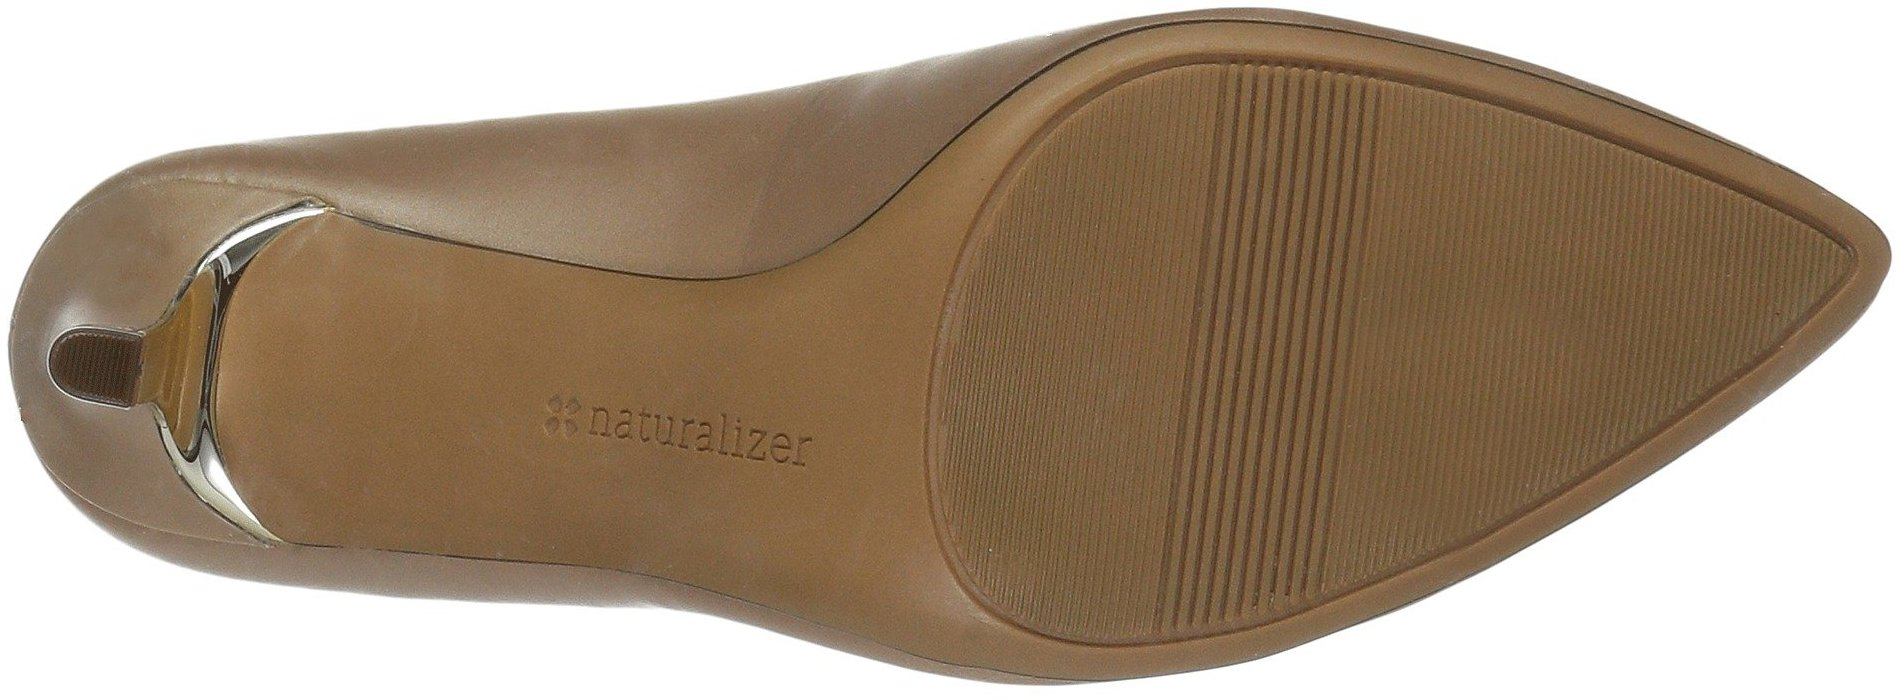line: (1091, 216, 1472, 495)
